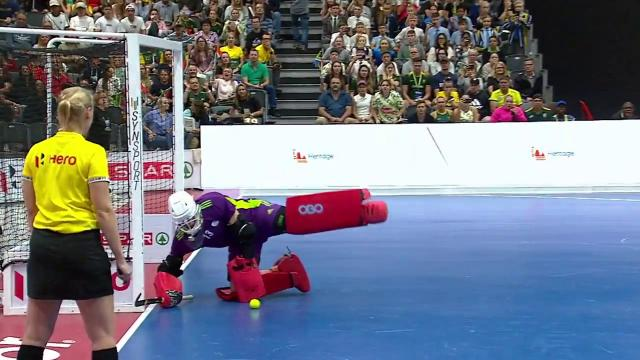ball: (249, 296, 261, 309)
